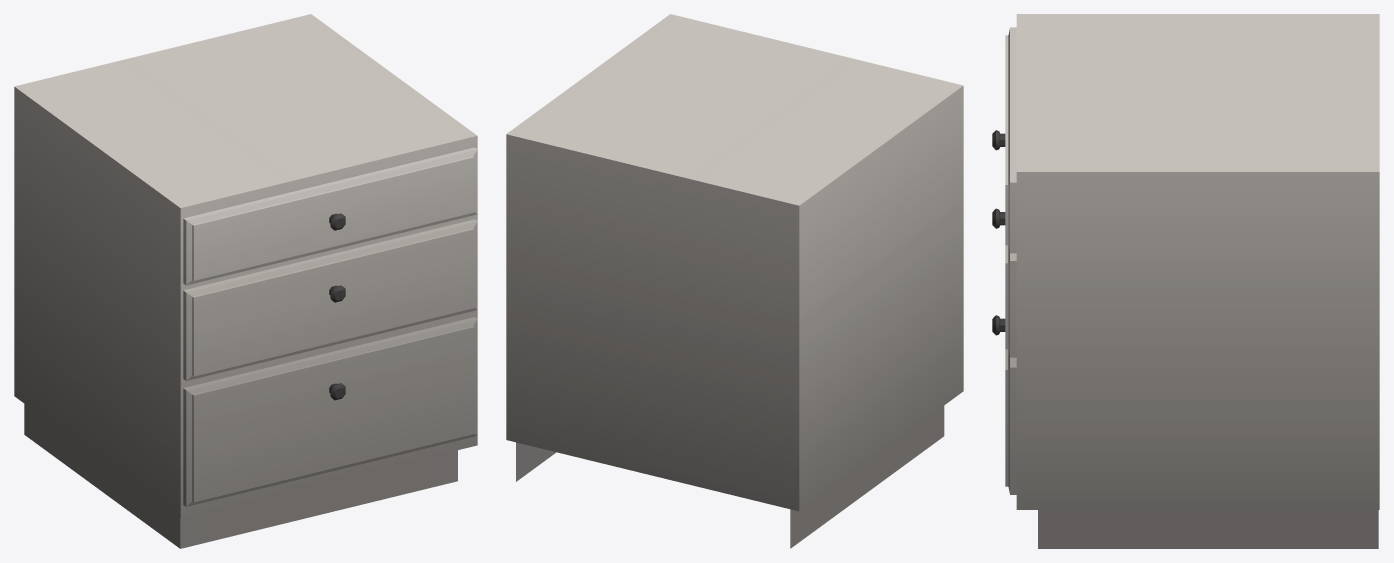
The model's file is Unit_80cm.fbx.
The picture shows the model from 3 angles, left to right: view 1: azimuth 30°, elevation 25°; view 2: azimuth 150°, elevation 25°; view 3: azimuth 270°, elevation 25°; orthographic projection. The views are drawn at different scales.
Visible parts, largest first — view 1: Unit_80cm; view 2: Unit_80cm; view 3: Unit_80cm.
Boxes of the visible parts, bbox=[...] form: Unit_80cm: bbox=[14, 14, 477, 548]; Unit_80cm: bbox=[506, 14, 963, 548]; Unit_80cm: bbox=[992, 14, 1379, 548].
Size of the model in its own units: 79.85 by 90 by 82.62.
